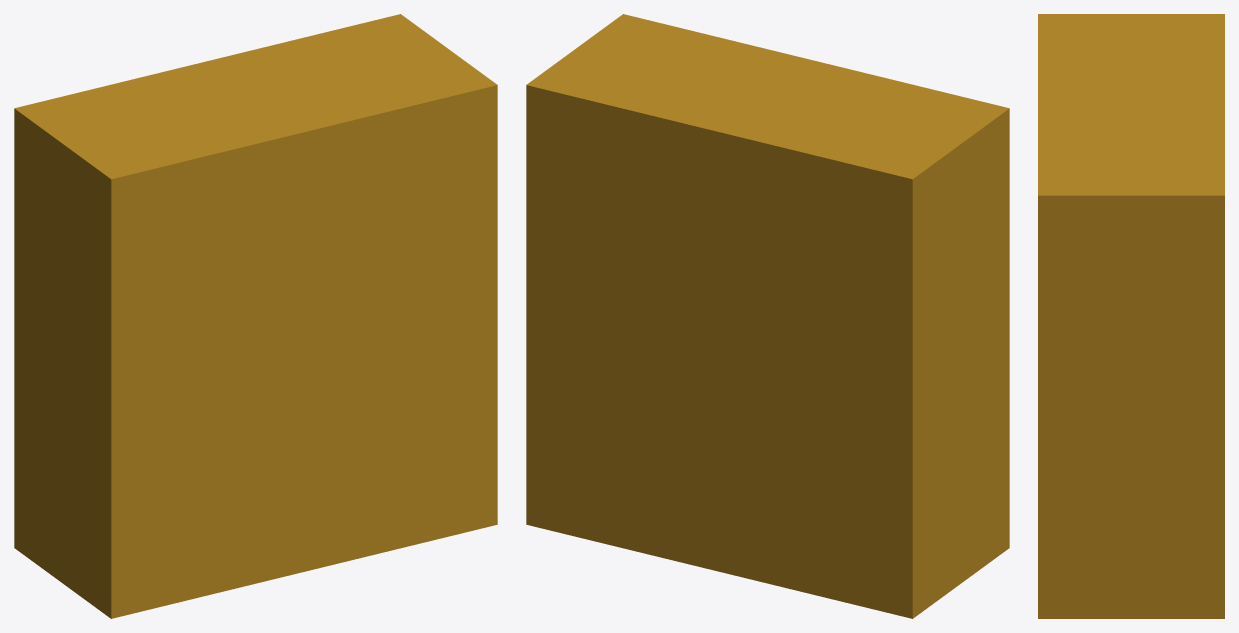
Rendered from obstacle-agachar.glb.
3 views of the same model, side by side, from view 1: azimuth 30°, elevation 25°; view 2: azimuth 150°, elevation 25°; view 3: azimuth 270°, elevation 25° (orthographic). The views are drawn at different scales.
Visible parts, largest first — view 1: Obstacle_Agachar; view 2: Obstacle_Agachar; view 3: Obstacle_Agachar.
Boxes of the visible parts, x1,y1,x2,y2 form: Obstacle_Agachar: [14, 14, 497, 618]; Obstacle_Agachar: [526, 14, 1009, 618]; Obstacle_Agachar: [1038, 14, 1224, 618].
Bounding box in the file's own units: 0.92 × 1 × 0.4.
